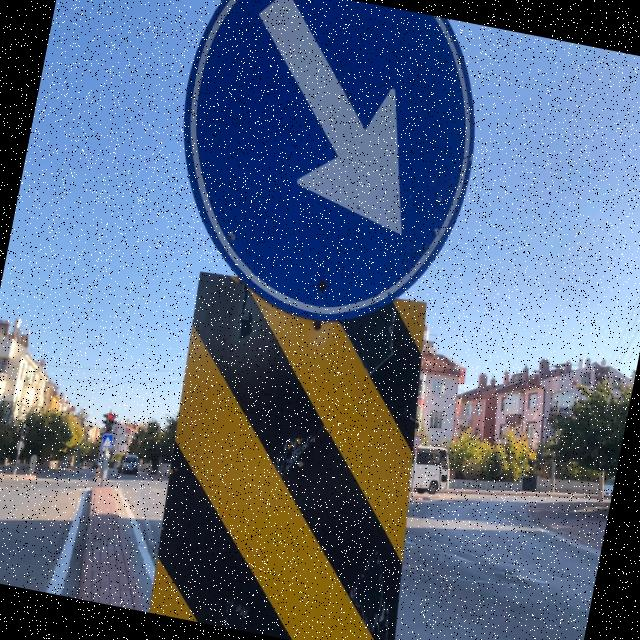compulsory_keep_right: (144, 0, 505, 345)
